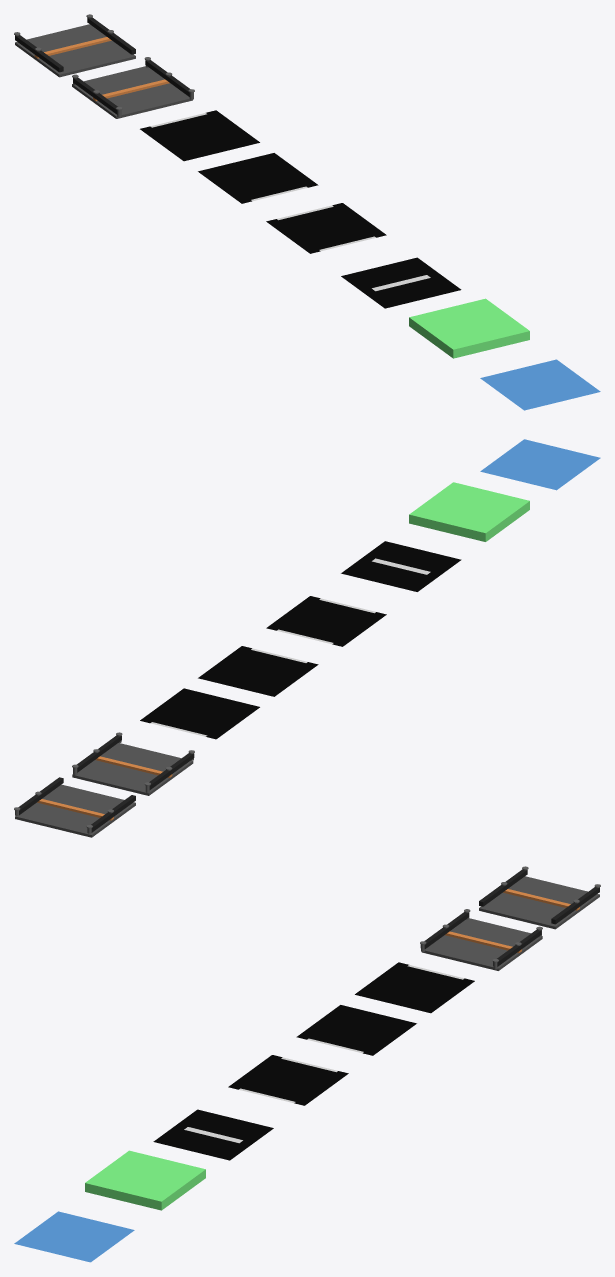
The model's file is TileModels.fbx.
3 views of the same model, one above another, from view 1: azimuth 30°, elevation 25°; view 2: azimuth 150°, elevation 25°; view 3: azimuth 330°, elevation 25° (orthographic).
Parts seen in each view (by area): view 1: Plane, Circle.005, Plane.007, Plane.008, Plane.002, Plane.001, Plane.009, Plane.003; view 2: Plane, Circle.005, Plane.007, Plane.008, Plane.002, Plane.003, Plane.009, Plane.001; view 3: Plane, Circle.005, Plane.007, Plane.002, Plane.009, Plane.001, Plane.008, Plane.003.
Part boxes in pixels (x1,y1,x2,y2): Plane: (409,298,529,358); Circle.005: (72,57,194,118); Plane.007: (14,14,135,77); Plane.008: (480,359,600,410); Plane.002: (266,203,386,253); Plane.001: (341,257,461,308); Plane.009: (140,110,259,161); Plane.003: (198,153,318,203); Plane: (409,482,529,541); Circle.005: (72,732,194,795); Plane.007: (14,777,135,837); Plane.008: (480,439,600,490); Plane.002: (266,596,386,646); Plane.003: (198,646,318,696); Plane.009: (140,688,259,739); Plane.001: (341,541,461,591); Plane: (85,1150,205,1210); Circle.005: (420,909,542,970); Plane.007: (479,866,600,929); Plane.002: (228,1055,348,1105); Plane.009: (355,962,474,1013); Plane.001: (153,1109,273,1160); Plane.008: (14,1211,134,1262); Plane.003: (296,1005,416,1055).
Size of the model in its own units: 102 by 20.09 by 1153.
